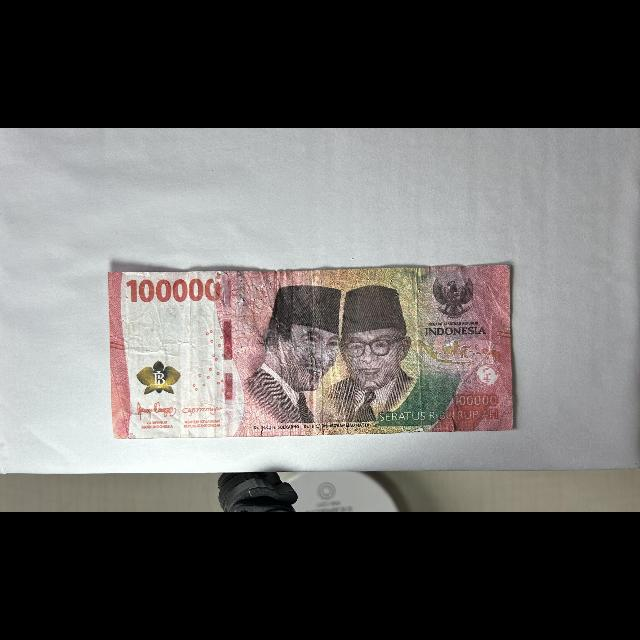Palsu-100k: (106, 264, 514, 440)
Tinta-Palsu-100k: (137, 359, 182, 396)
